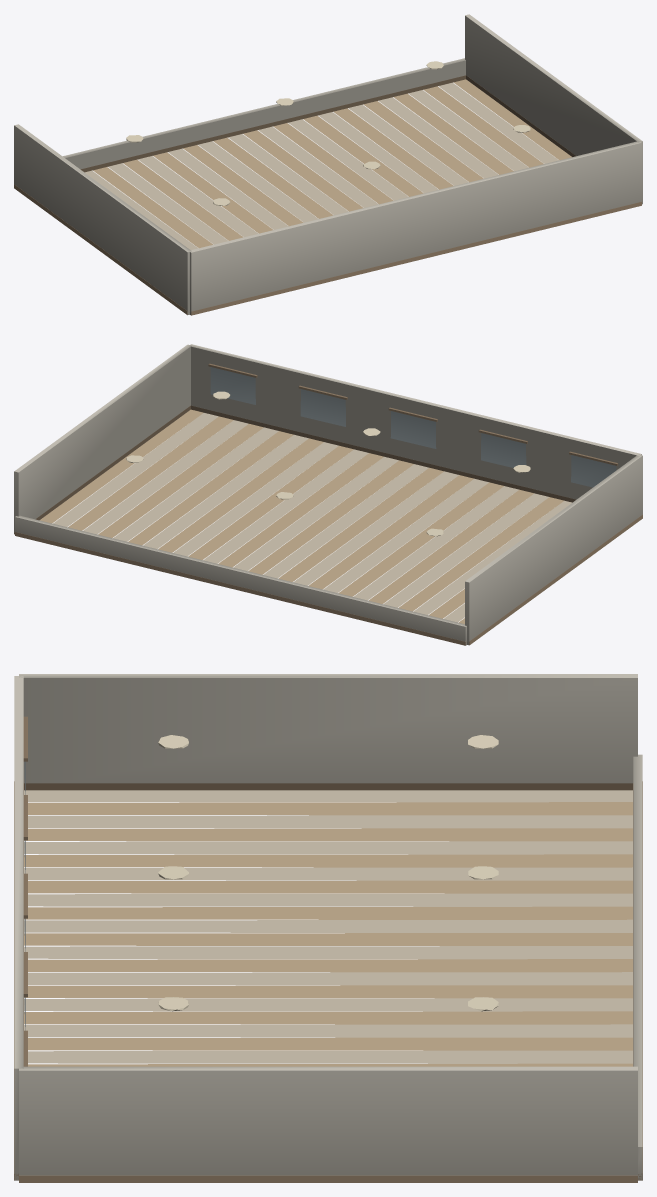
Rendered from mall_floor2_low.glb.
3 views of the same model, one above another, from view 1: azimuth 30°, elevation 25°; view 2: azimuth 150°, elevation 25°; view 3: azimuth 270°, elevation 25° (orthographic). The views are drawn at different scales.
Size of the model in its own units: 30.32 by 4.04 by 20.32.
